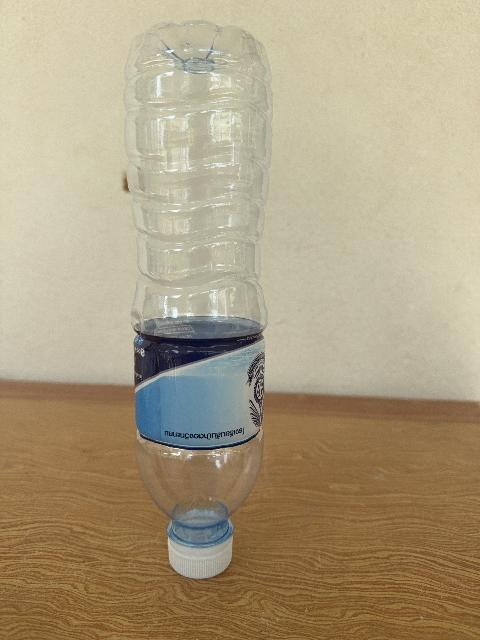bottle: (125, 22, 271, 577)
